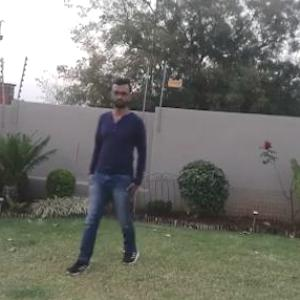follow: (94, 74, 162, 273)
